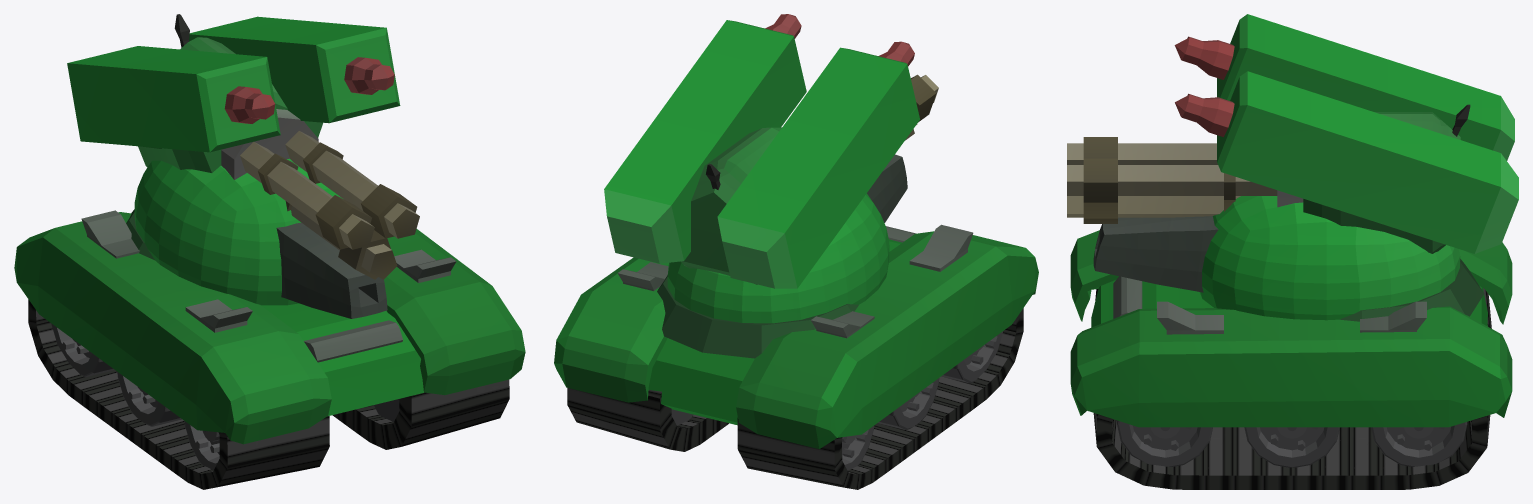
File: minitank-v9.fbx
3 renders of one model, left to right at view 1: azimuth 30°, elevation 25°; view 2: azimuth 150°, elevation 25°; view 3: azimuth 270°, elevation 25°, orthographic. The views are drawn at different scales.
Parts seen in each view (by area): view 1: body, cannon-ballistic, cannon-default, minigun-base; view 2: body, cannon-ballistic, cannon-default, minigun-base; view 3: body, cannon-ballistic, cannon-default, minigun-base.
Part boxes in pixels (x1,y1,x2,y2): body: (14,210,525,489); cannon-ballistic: (67,16,400,260); cannon-default: (134,14,387,318); minigun-base: (138,37,419,279); body: (554,224,1038,489); cannon-ballistic: (604,14,919,358); cannon-default: (667,154,907,323); minigun-base: (681,74,938,284); body: (1070,230,1512,489); cannon-ballistic: (1174,14,1518,321); cannon-default: (1093,104,1470,320); minigun-base: (1067,112,1460,253).
Bounding box in the file's own units: 1777 × 2109 × 2353.
